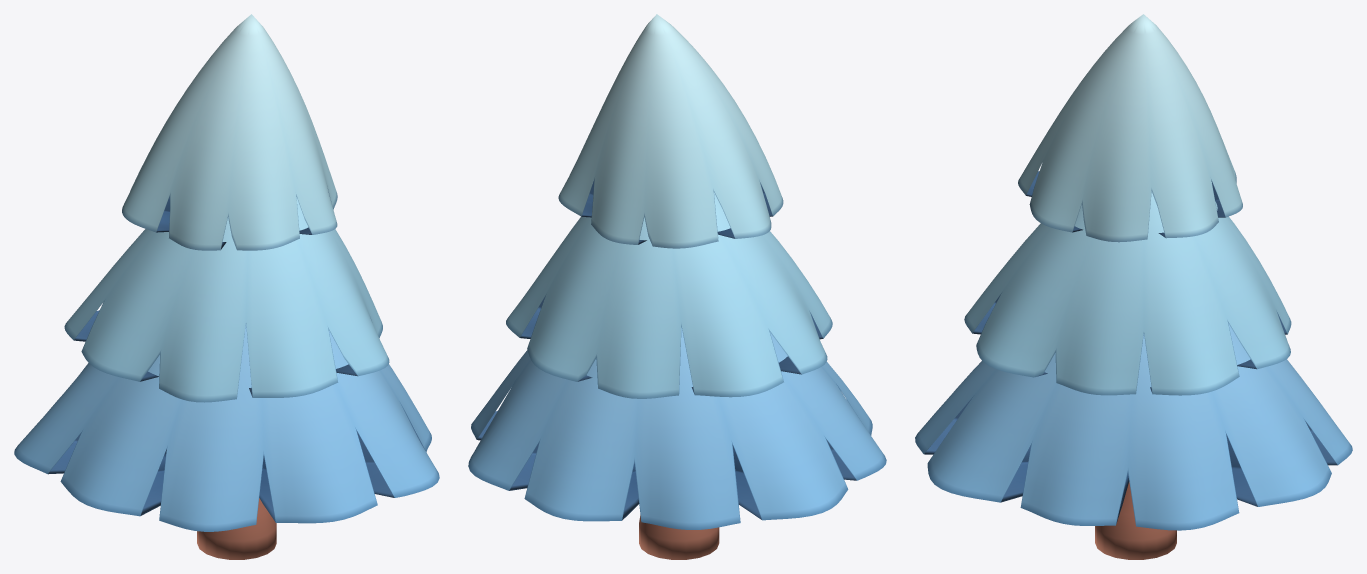
The model's file is pine_2.glb.
3 renders of one model, left to right at view 1: azimuth 30°, elevation 25°; view 2: azimuth 150°, elevation 25°; view 3: azimuth 270°, elevation 25°, orthographic. The views are drawn at different scales.
Visible parts, largest first — view 1: pine_2; view 2: pine_2; view 3: pine_2.
Part boxes in pixels (x1,y1,x2,y2): pine_2: [14, 14, 439, 559]; pine_2: [468, 14, 886, 559]; pine_2: [915, 14, 1352, 559].
Bounding box in the file's own units: 2.2 × 3.04 × 2.24.
3 materials, 3 textured.
